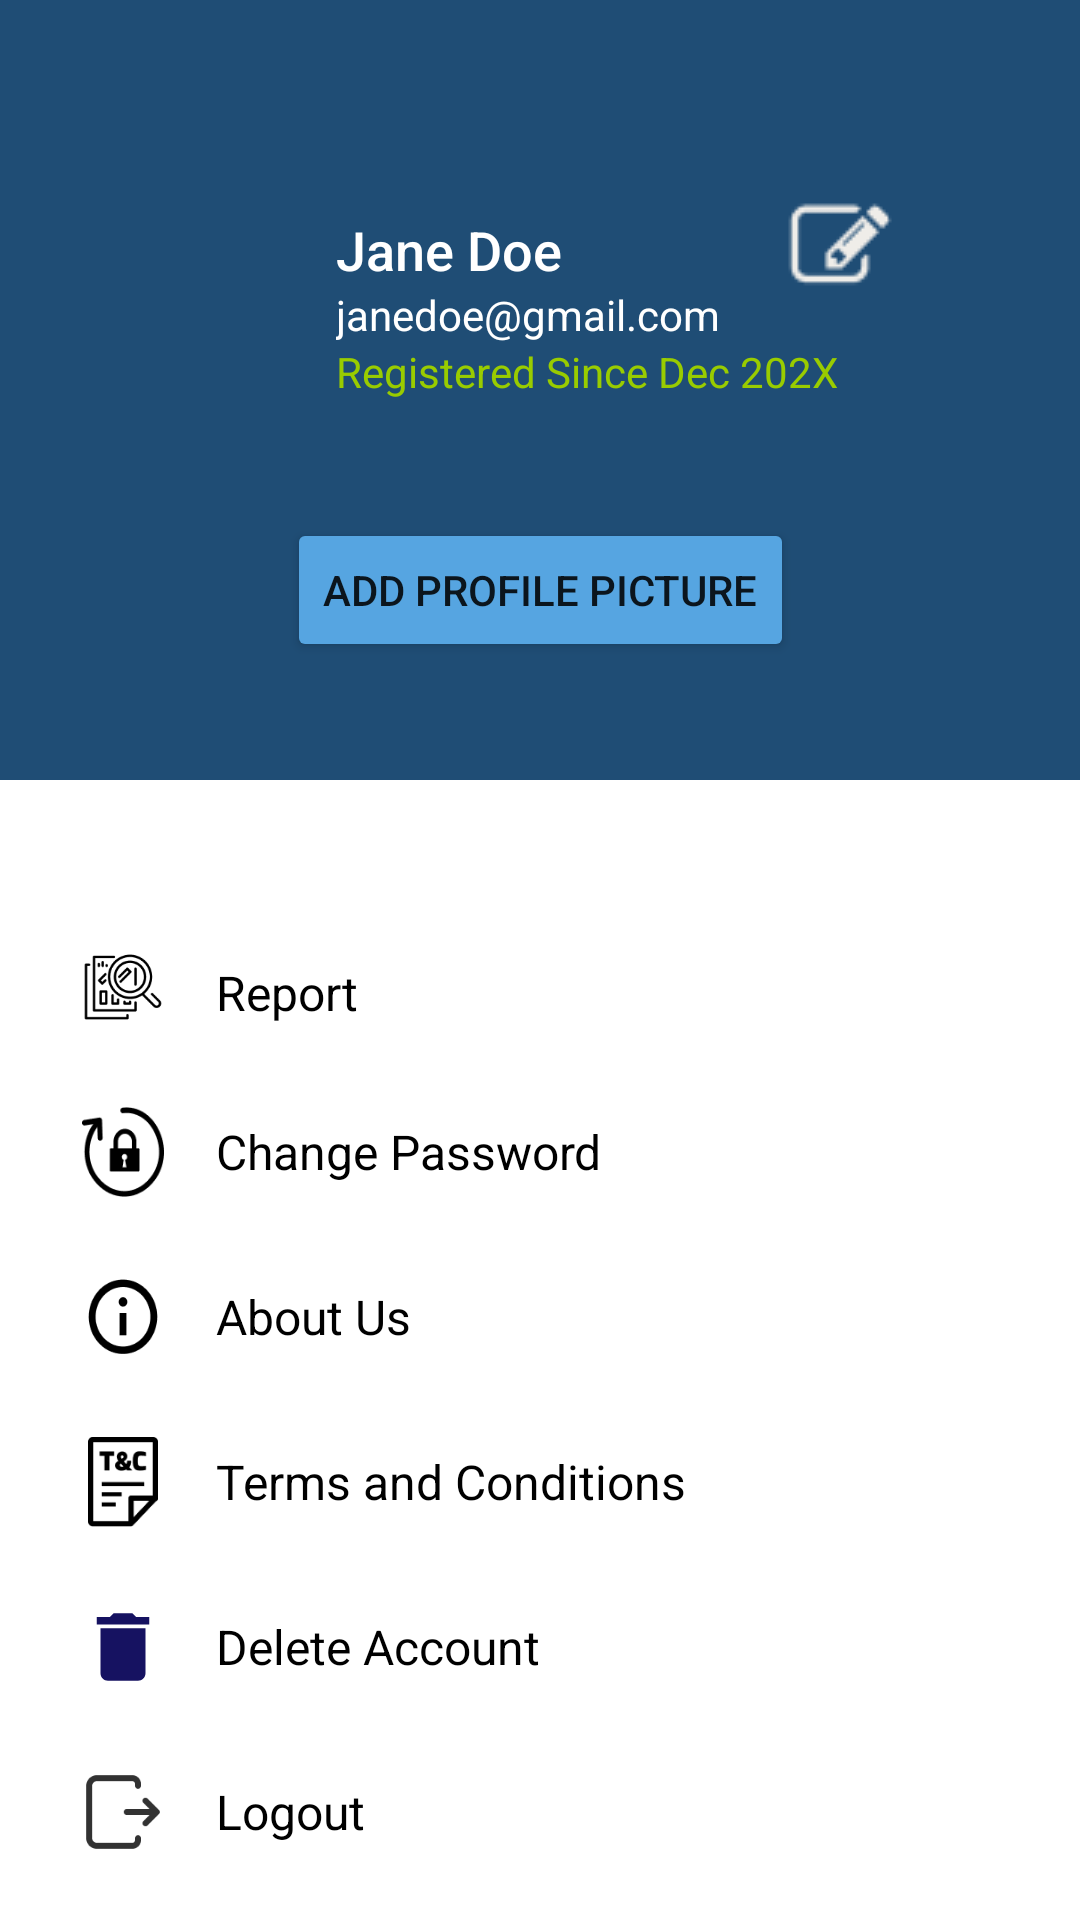

Point at icon controls on the screen. Image size 1080*1920, points as point (x, y).
Edit: point (840, 243)
Info Icon: point (123, 1316)
Lock Icon: point (123, 1152)
